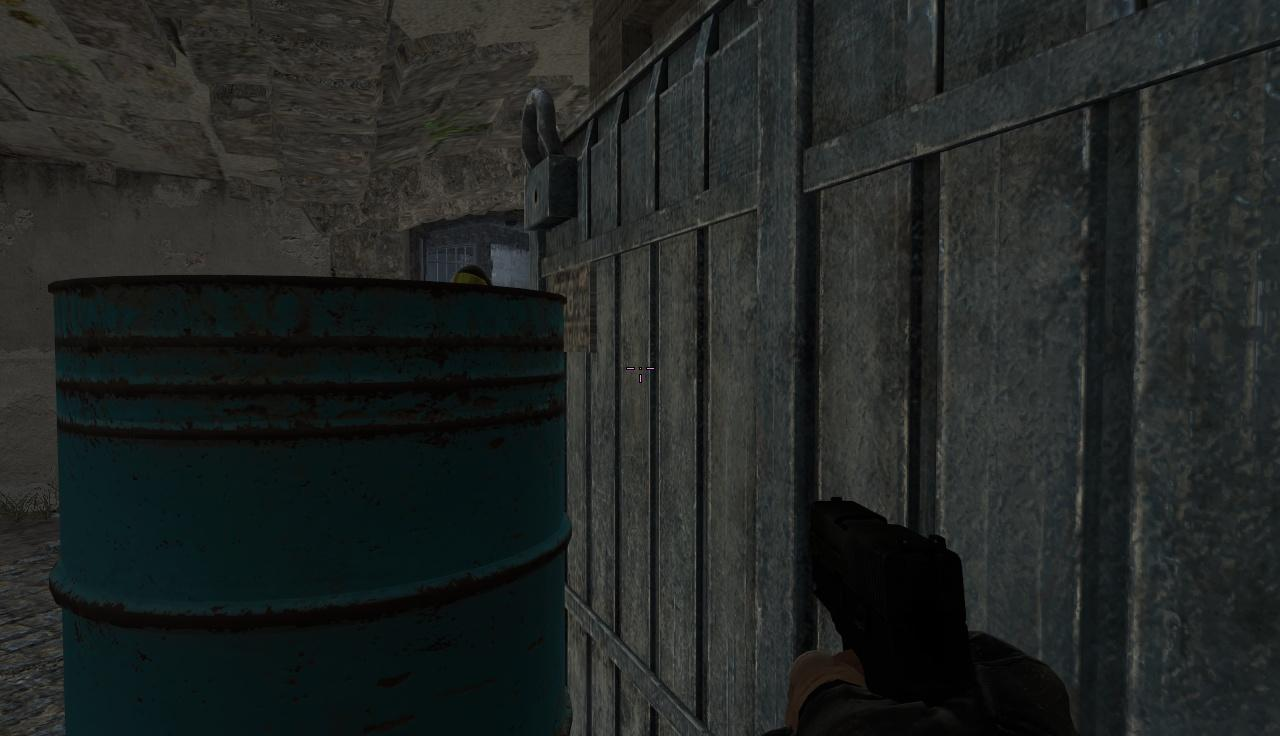cthead: (450, 266, 489, 286)
pistol: (786, 496, 1071, 736)
